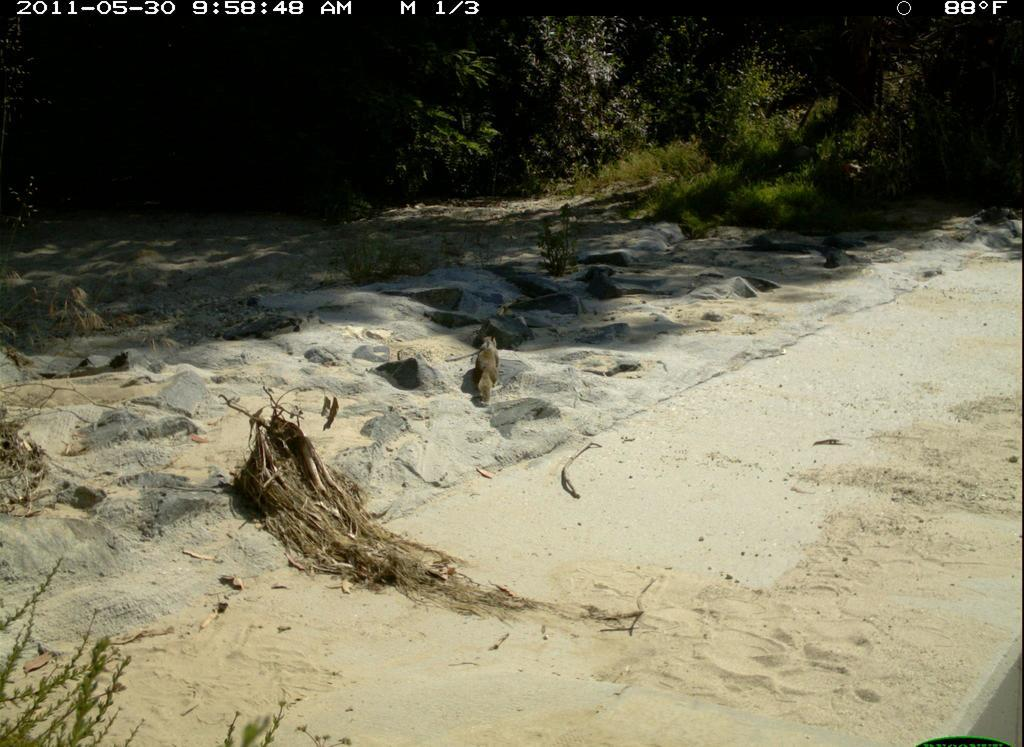squirrel: (447, 314, 534, 420)
